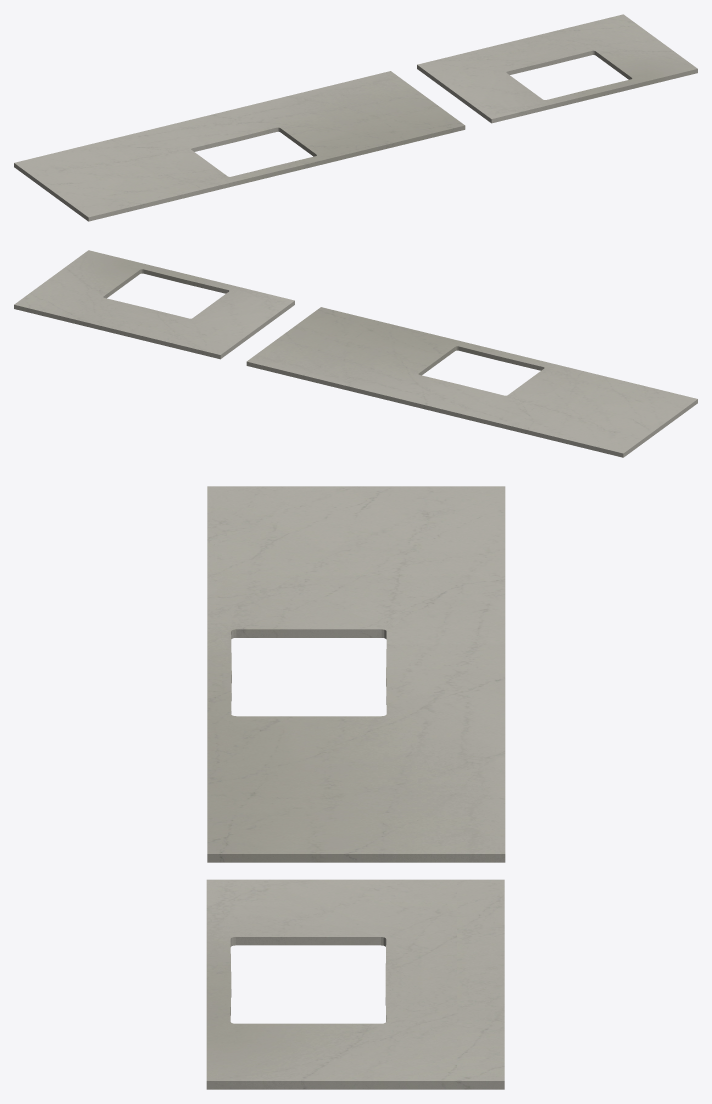
The model's file is Layout 3.glb.
3 renders of one model, top to bottom at view 1: azimuth 30°, elevation 25°; view 2: azimuth 150°, elevation 25°; view 3: azimuth 270°, elevation 25°, orthographic. The views are drawn at different scales.
Parts seen in each view (by area): view 1: texturedMesh (×13); view 2: texturedMesh (×14); view 3: texturedMesh (×18).
Boxes of the visible parts, bbox=[...] form: texturedMesh (×13): bbox=[14, 14, 697, 217]; texturedMesh (×14): bbox=[14, 250, 697, 453]; texturedMesh (×18): bbox=[206, 486, 505, 1089].
Bounding box in the file's own units: 3 × 0.02 × 0.6362.
Materials: 11 (11 with a texture image).
